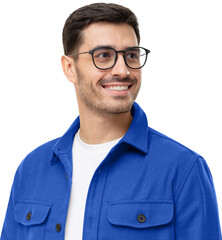young: (55, 5, 154, 109)
